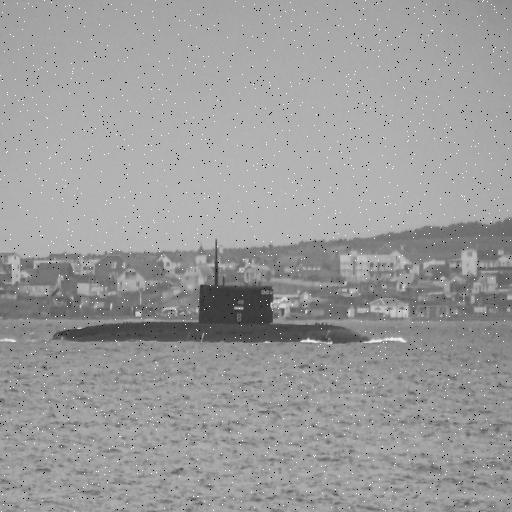submarine: (45, 278, 383, 347)
